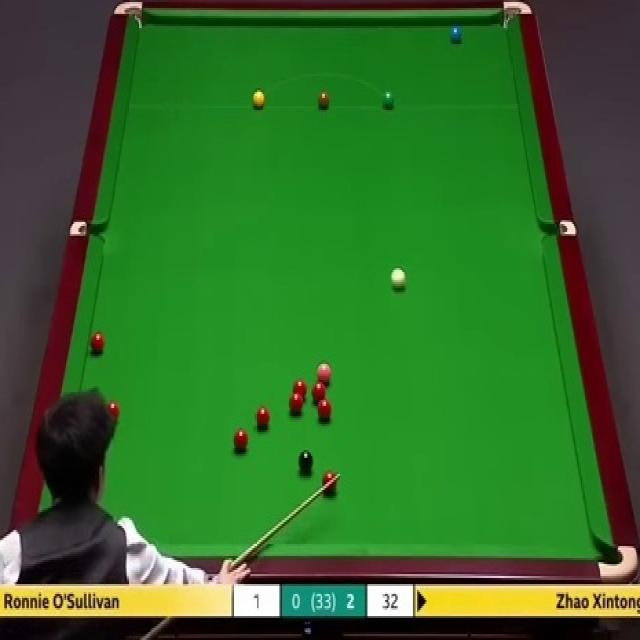pocket: (597, 543, 636, 583), (499, 0, 534, 32), (110, 3, 144, 31), (541, 217, 578, 240), (69, 217, 107, 237)
